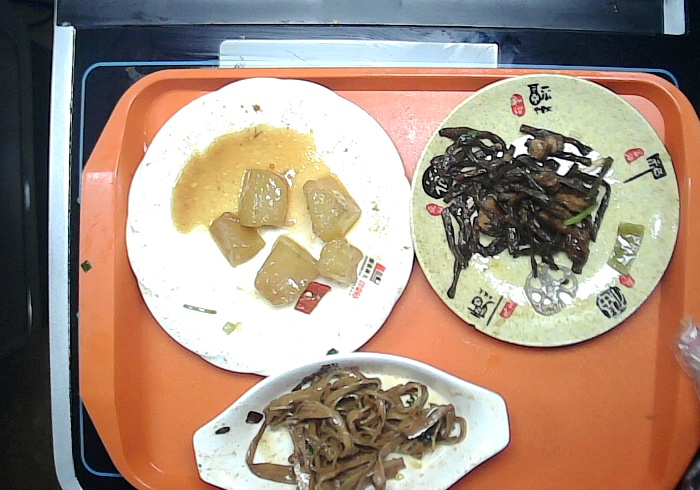NLDX-Bai_Zhe_Yuan_Pan: (123, 75, 416, 377)
NLDX-Fu_Zi_Yuan_Pan: (406, 70, 681, 348)
NLDX-Yu_Pan: (192, 348, 514, 490)
